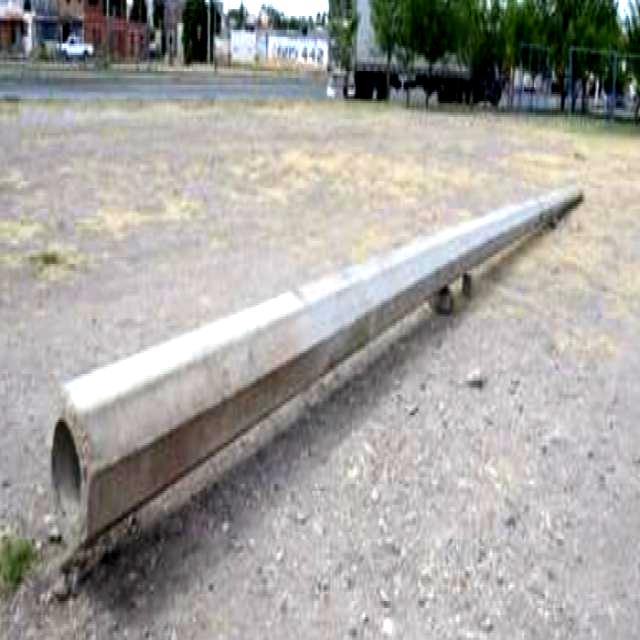Broken Pole: (39, 181, 590, 581)
